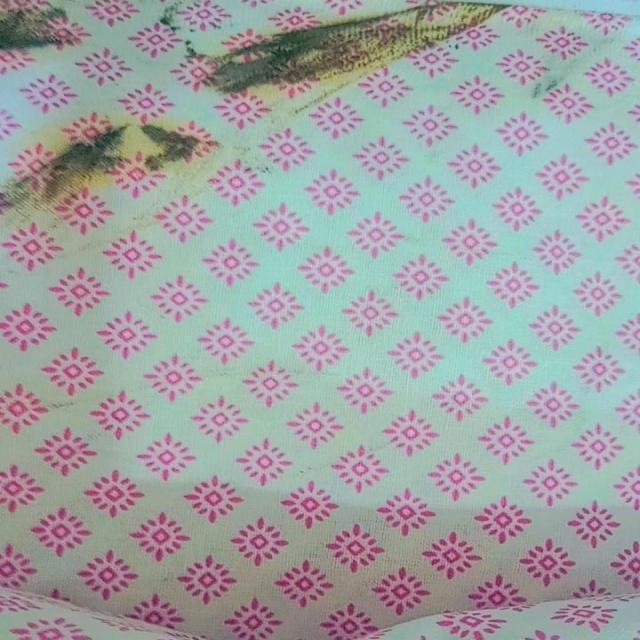stain: (172, 1, 536, 102), (0, 114, 212, 217), (0, 1, 96, 54)
